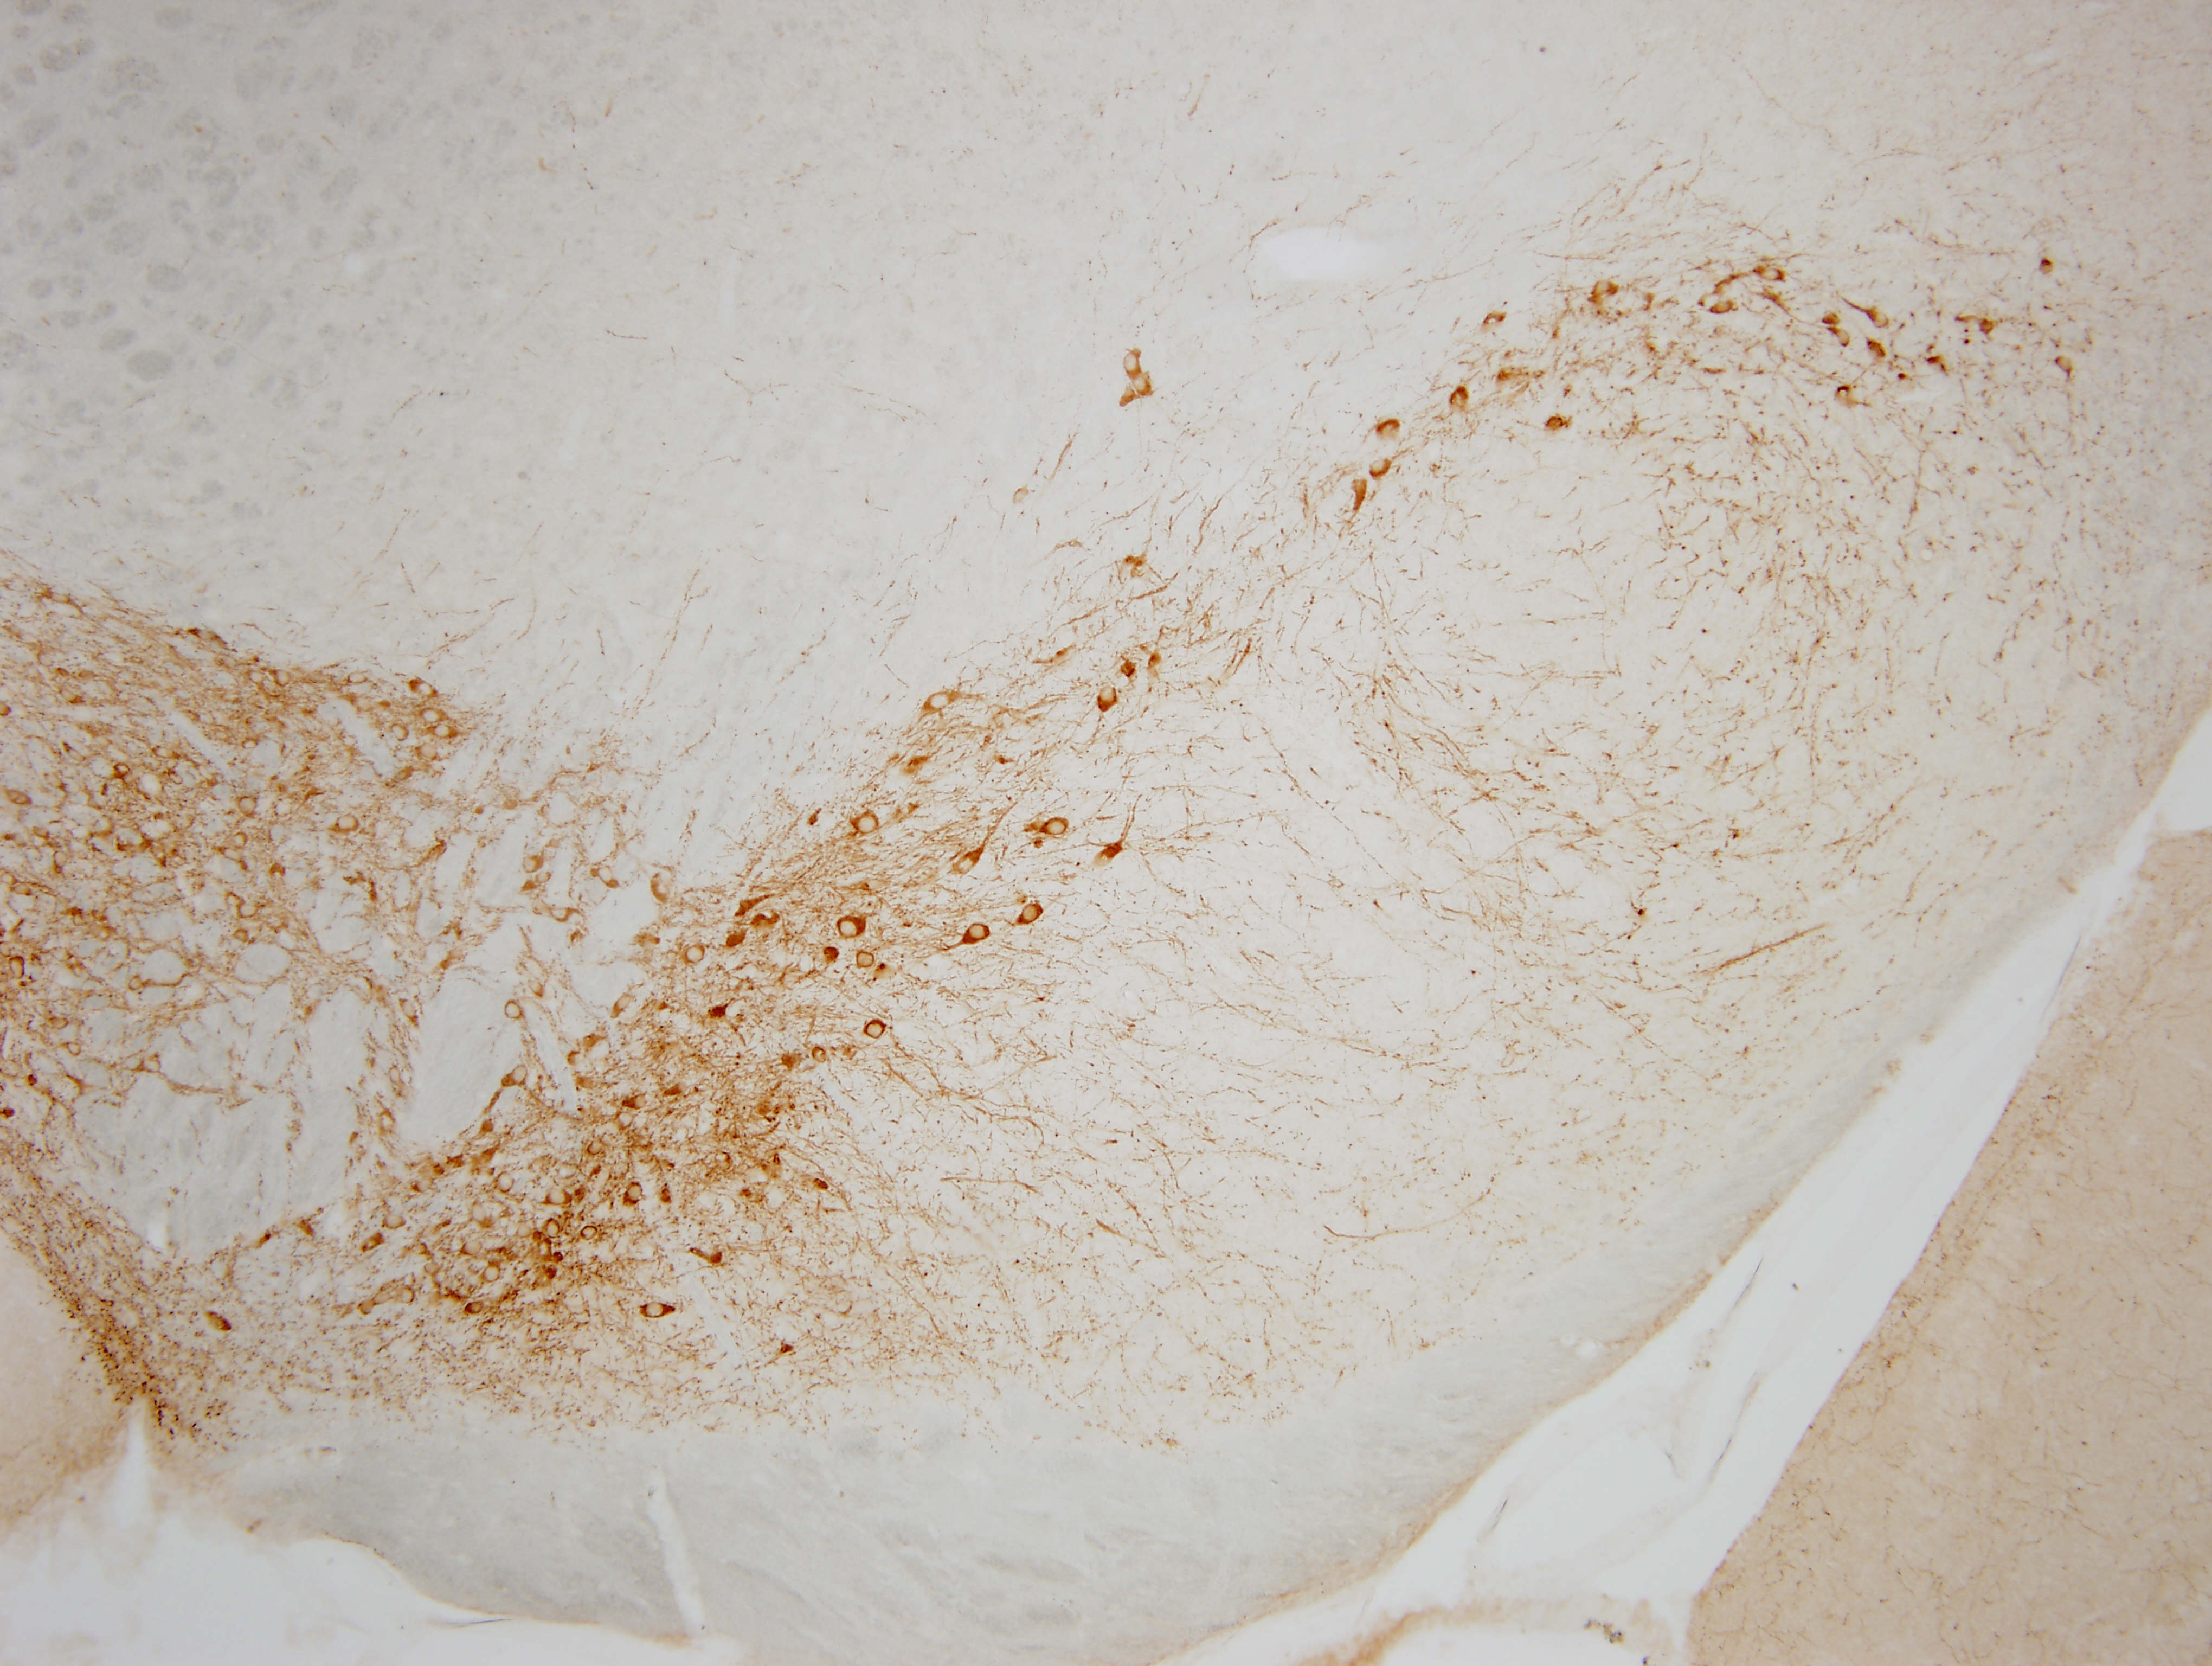neuron: (923, 686, 956, 719), (962, 922, 995, 956), (1040, 810, 1074, 843), (1128, 369, 1161, 402), (678, 943, 710, 976), (838, 915, 869, 949), (852, 941, 883, 975), (852, 810, 885, 842), (860, 1019, 892, 1052), (1014, 903, 1047, 935), (1116, 352, 1149, 383), (393, 998, 427, 1029), (493, 1167, 526, 1199), (561, 1046, 588, 1073), (582, 1136, 609, 1162), (612, 1108, 638, 1134), (612, 992, 638, 1019), (623, 1181, 649, 1208), (61, 1034, 87, 1061), (640, 1300, 666, 1326), (66, 906, 93, 933), (710, 1146, 736, 1172), (806, 1045, 832, 1071), (9, 956, 35, 982), (1007, 481, 1033, 507), (107, 756, 133, 782), (1095, 684, 1121, 711), (1114, 387, 1140, 413), (128, 971, 154, 998), (1366, 455, 1392, 481), (142, 1055, 168, 1081), (1444, 385, 1471, 411), (1589, 275, 1616, 301), (166, 768, 192, 795), (1710, 297, 1736, 324), (1829, 324, 1855, 350), (1866, 305, 1892, 331), (217, 842, 243, 868), (220, 889, 247, 915), (229, 828, 255, 854), (231, 924, 257, 950), (234, 795, 261, 821), (234, 733, 261, 760), (238, 901, 264, 928), (271, 668, 297, 695), (26, 819, 52, 845), (378, 1106, 404, 1132), (381, 1208, 407, 1234), (388, 725, 414, 751), (393, 1269, 420, 1295), (395, 1285, 421, 1311), (413, 676, 439, 702), (416, 705, 442, 731), (421, 1256, 448, 1283), (430, 721, 456, 747), (463, 1297, 490, 1323), (45, 1006, 72, 1032), (481, 1263, 507, 1290), (3, 786, 30, 812), (49, 588, 75, 614), (498, 998, 525, 1024), (505, 1064, 532, 1090), (521, 854, 547, 880), (542, 1216, 568, 1242), (577, 1222, 603, 1246), (595, 866, 621, 891), (631, 1090, 656, 1116), (649, 873, 675, 898), (94, 921, 121, 945), (956, 852, 981, 878), (152, 738, 177, 765), (1759, 264, 1785, 289), (187, 621, 213, 646), (2053, 352, 2077, 378), (247, 667, 273, 691), (336, 810, 360, 836), (346, 667, 372, 691), (385, 1062, 409, 1089), (49, 845, 73, 871), (547, 905, 572, 929), (460, 1237, 484, 1262)
